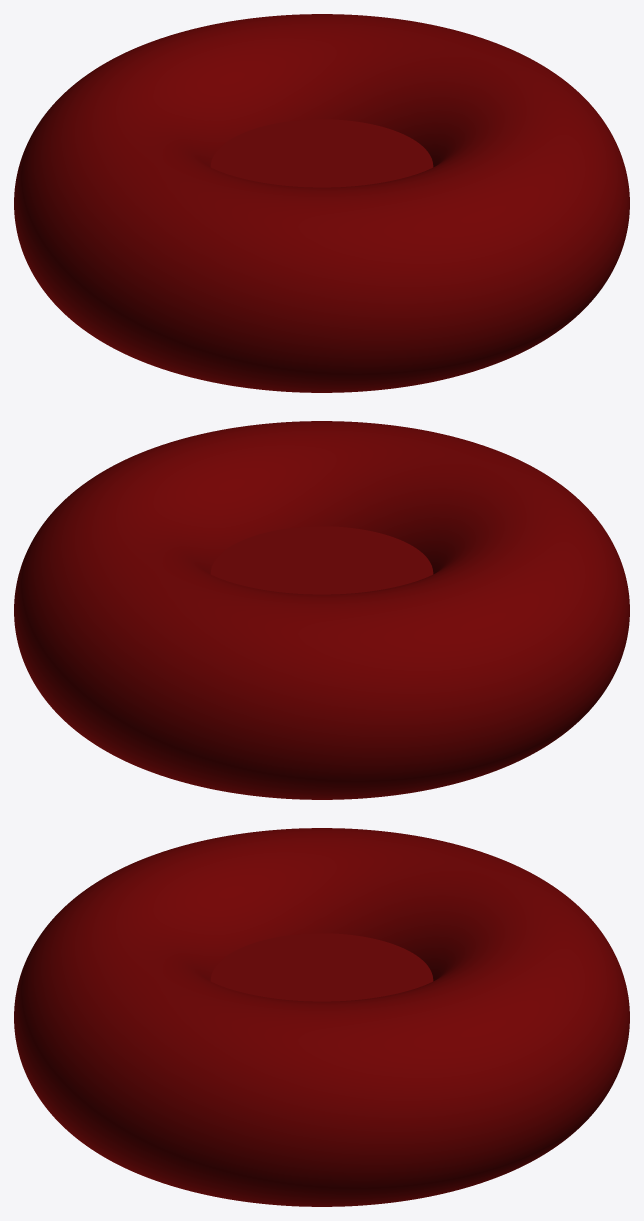
The model's file is red-blood-cell.fbx.
3 renders of one model, top to bottom at view 1: azimuth 30°, elevation 25°; view 2: azimuth 150°, elevation 25°; view 3: azimuth 270°, elevation 25°, orthographic.
Visible parts, largest first — view 1: Torus, Circle1; view 2: Torus, Circle1; view 3: Torus, Circle1.
Part boxes in pixels (box(x1,y1,x2,y2)): Torus: box(14, 14, 629, 392); Circle1: box(210, 119, 433, 187); Torus: box(14, 421, 629, 799); Circle1: box(210, 526, 433, 594); Torus: box(14, 828, 629, 1206); Circle1: box(210, 933, 433, 1001).
Size of the model in its own units: 1.5 by 0.5 by 1.5.
